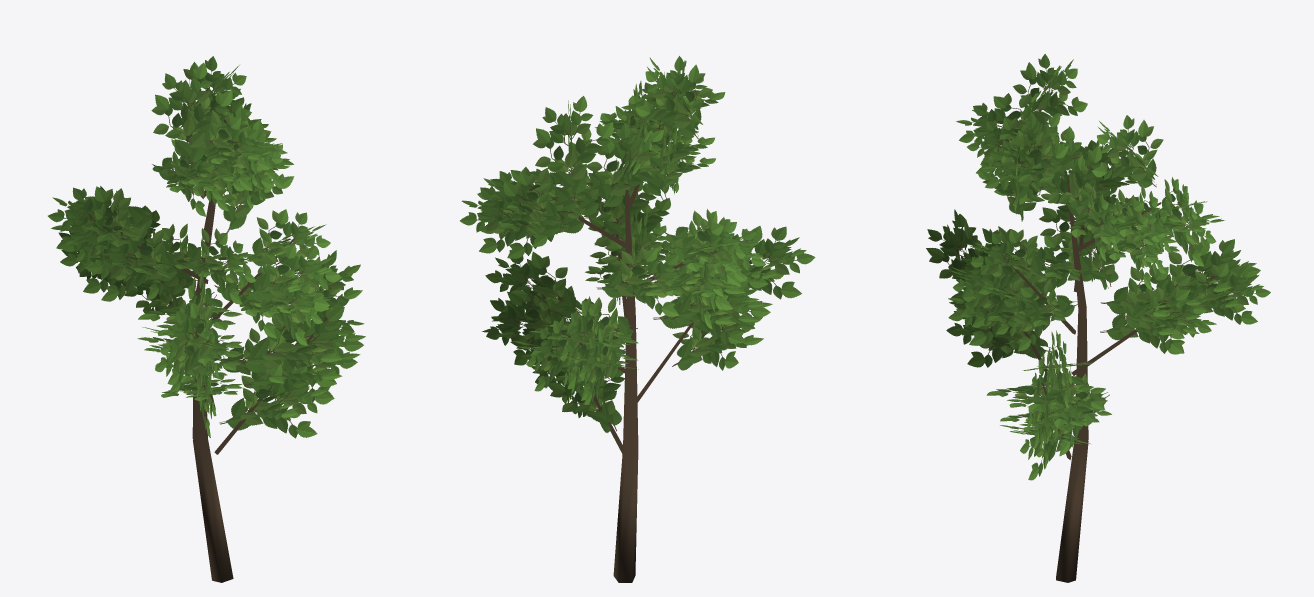
Rendered from Tall Shrub A.glb.
3 views of the same model, side by side, from view 1: azimuth 30°, elevation 25°; view 2: azimuth 150°, elevation 25°; view 3: azimuth 270°, elevation 25° (orthographic). The views are drawn at different scales.
Parts seen in each view (by area): view 1: Tall Shrub A; view 2: Tall Shrub A; view 3: Tall Shrub A.
Boxes of the visible parts, x1,y1,x2,y2 form: Tall Shrub A: (48, 56, 365, 582); Tall Shrub A: (460, 56, 815, 582); Tall Shrub A: (926, 54, 1270, 582).
Bounding box in the file's own units: 1.51 × 2.4 × 1.68.
1 material, 1 textured.
